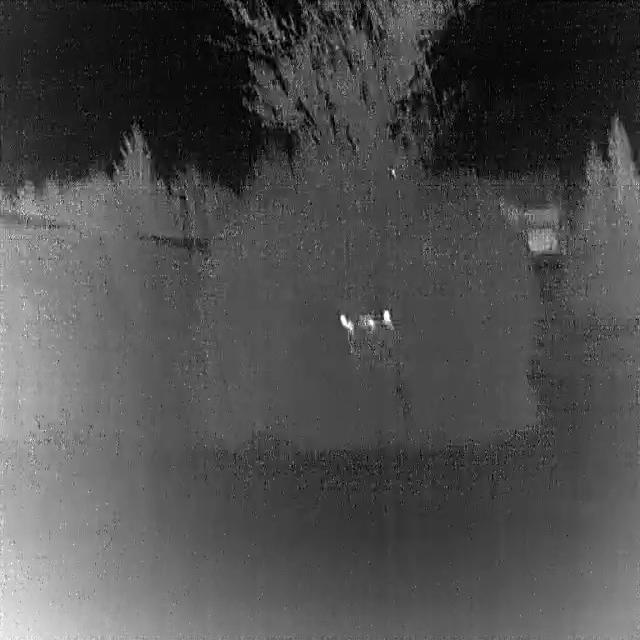drone: (338, 307, 396, 332)
